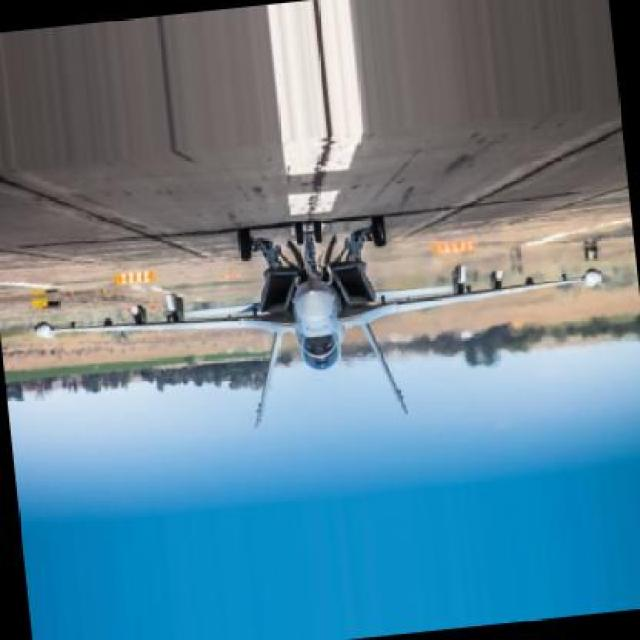iha: (32, 212, 607, 436)
